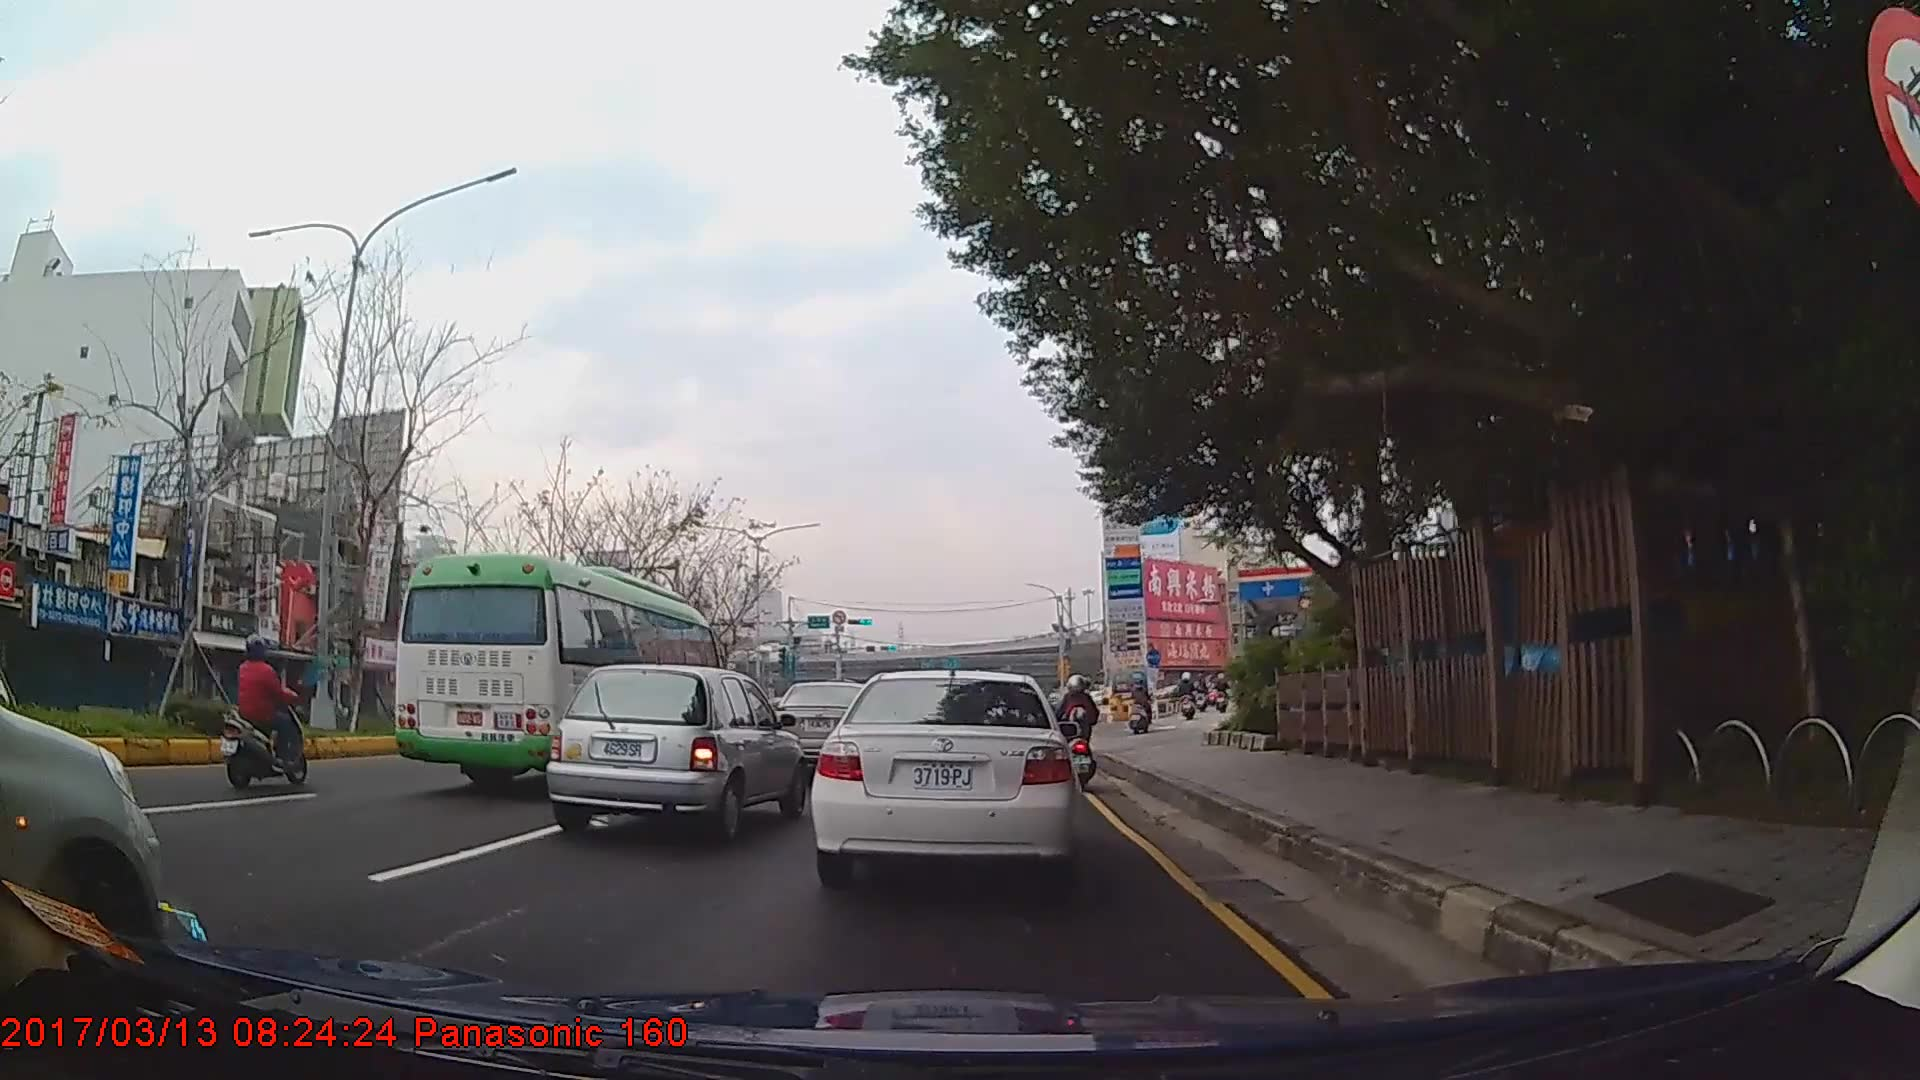rider: (220, 632, 313, 794), (1060, 673, 1101, 787), (1133, 677, 1155, 733), (1178, 671, 1198, 720)
vehicle: (390, 550, 724, 796), (808, 666, 1083, 888), (545, 661, 806, 847), (771, 681, 888, 776)
